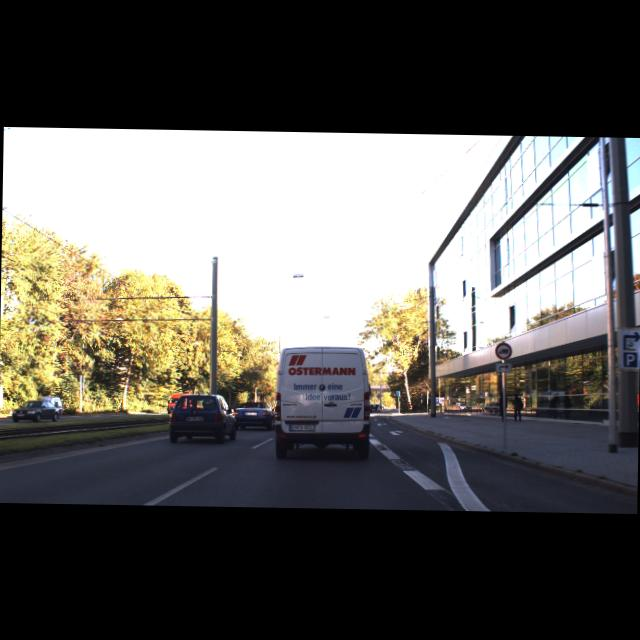prohibitory: (494, 342, 512, 360)
